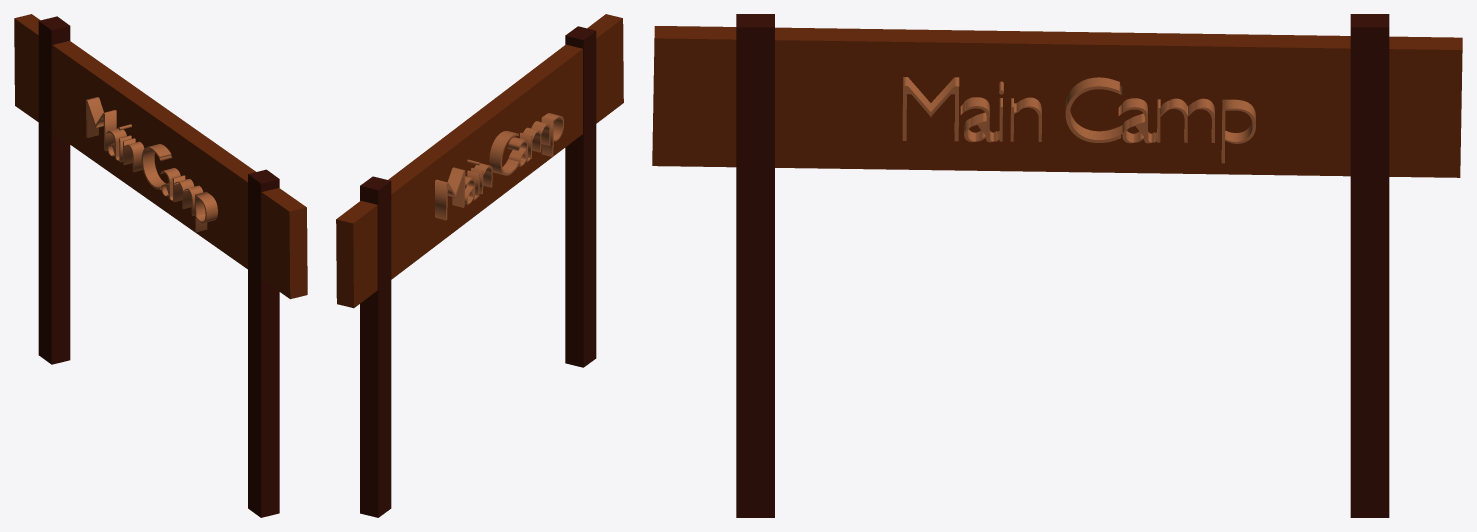
The model's file is Main Camp.fbx.
3 views of the same model, side by side, from view 1: azimuth 30°, elevation 25°; view 2: azimuth 150°, elevation 25°; view 3: azimuth 270°, elevation 25° (orthographic). The views are drawn at different scales.
Parts seen in each view (by area): view 1: Cube.001, Text; view 2: Cube.001, Text; view 3: Cube.001, Text.001.
Part boxes in pixels (x1=…): Cube.001: x1=14, y1=14, x2=307, y2=517; Text: x1=86, y1=97, x2=217, y2=232; Cube.001: x1=336, y1=14, x2=623, y2=517; Text: x1=435, y1=113, x2=563, y2=220; Cube.001: x1=652, y1=14, x2=1462, y2=517; Text.001: x1=902, y1=77, x2=1255, y2=163.
Bounding box in the file's own units: 102 × 777 × 1163.
